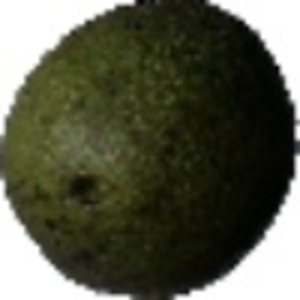abacate: (1, 2, 299, 298)
